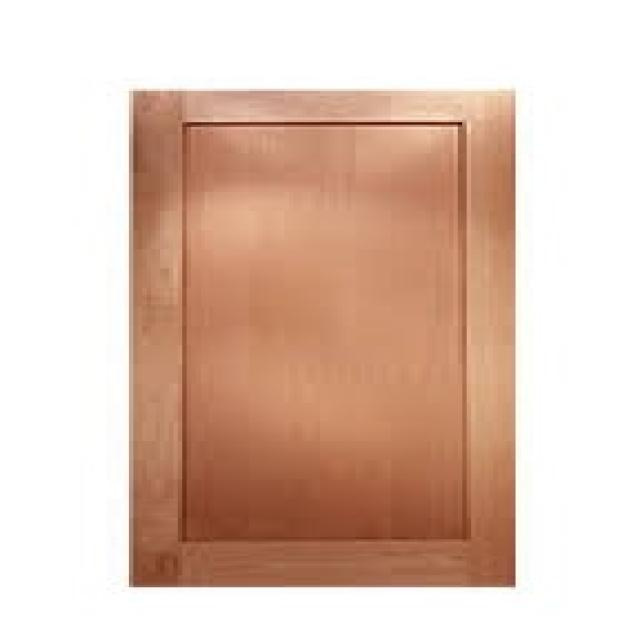door: (127, 89, 518, 587)
